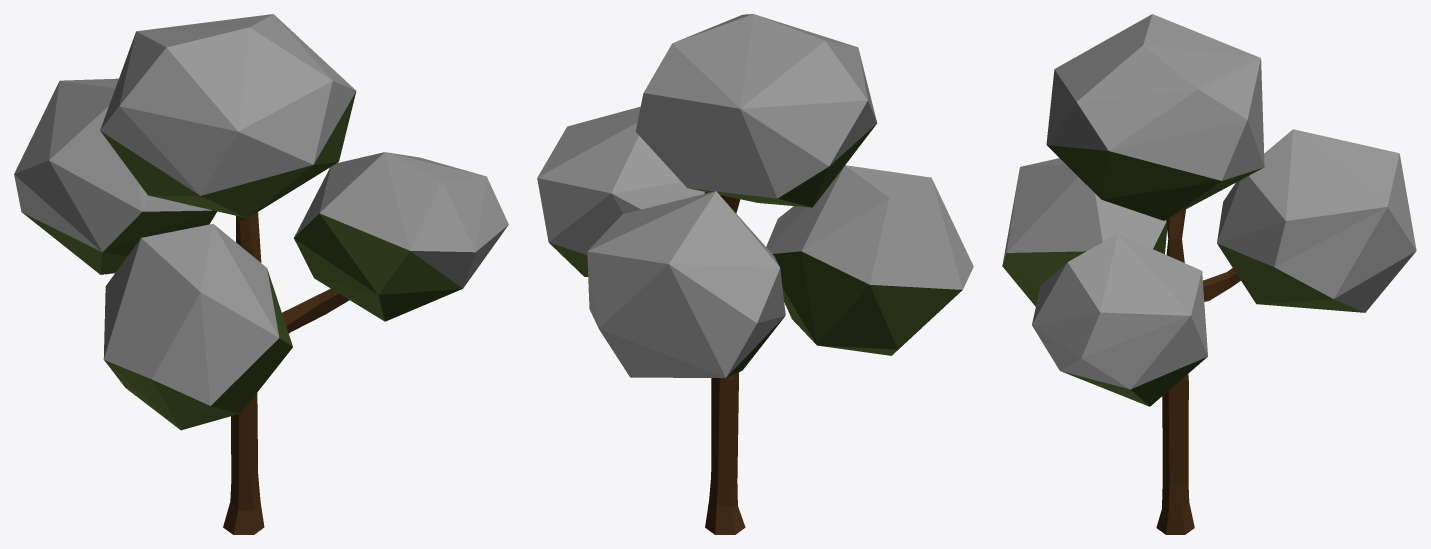
The model's file is Normal_Tree02.fbx.
The picture shows the model from 3 angles, left to right: view 1: azimuth 30°, elevation 25°; view 2: azimuth 150°, elevation 25°; view 3: azimuth 270°, elevation 25°; orthographic projection. The views are drawn at different scales.
Visible parts, largest first — view 1: Normal_Tree02; view 2: Normal_Tree02; view 3: Normal_Tree02.
Part boxes in pixels (box(x1,y1,x2,y2)): Normal_Tree02: box(14, 14, 508, 534); Normal_Tree02: box(537, 14, 973, 534); Normal_Tree02: box(1002, 14, 1416, 534).
Size of the model in its own units: 441 by 535 by 421.
